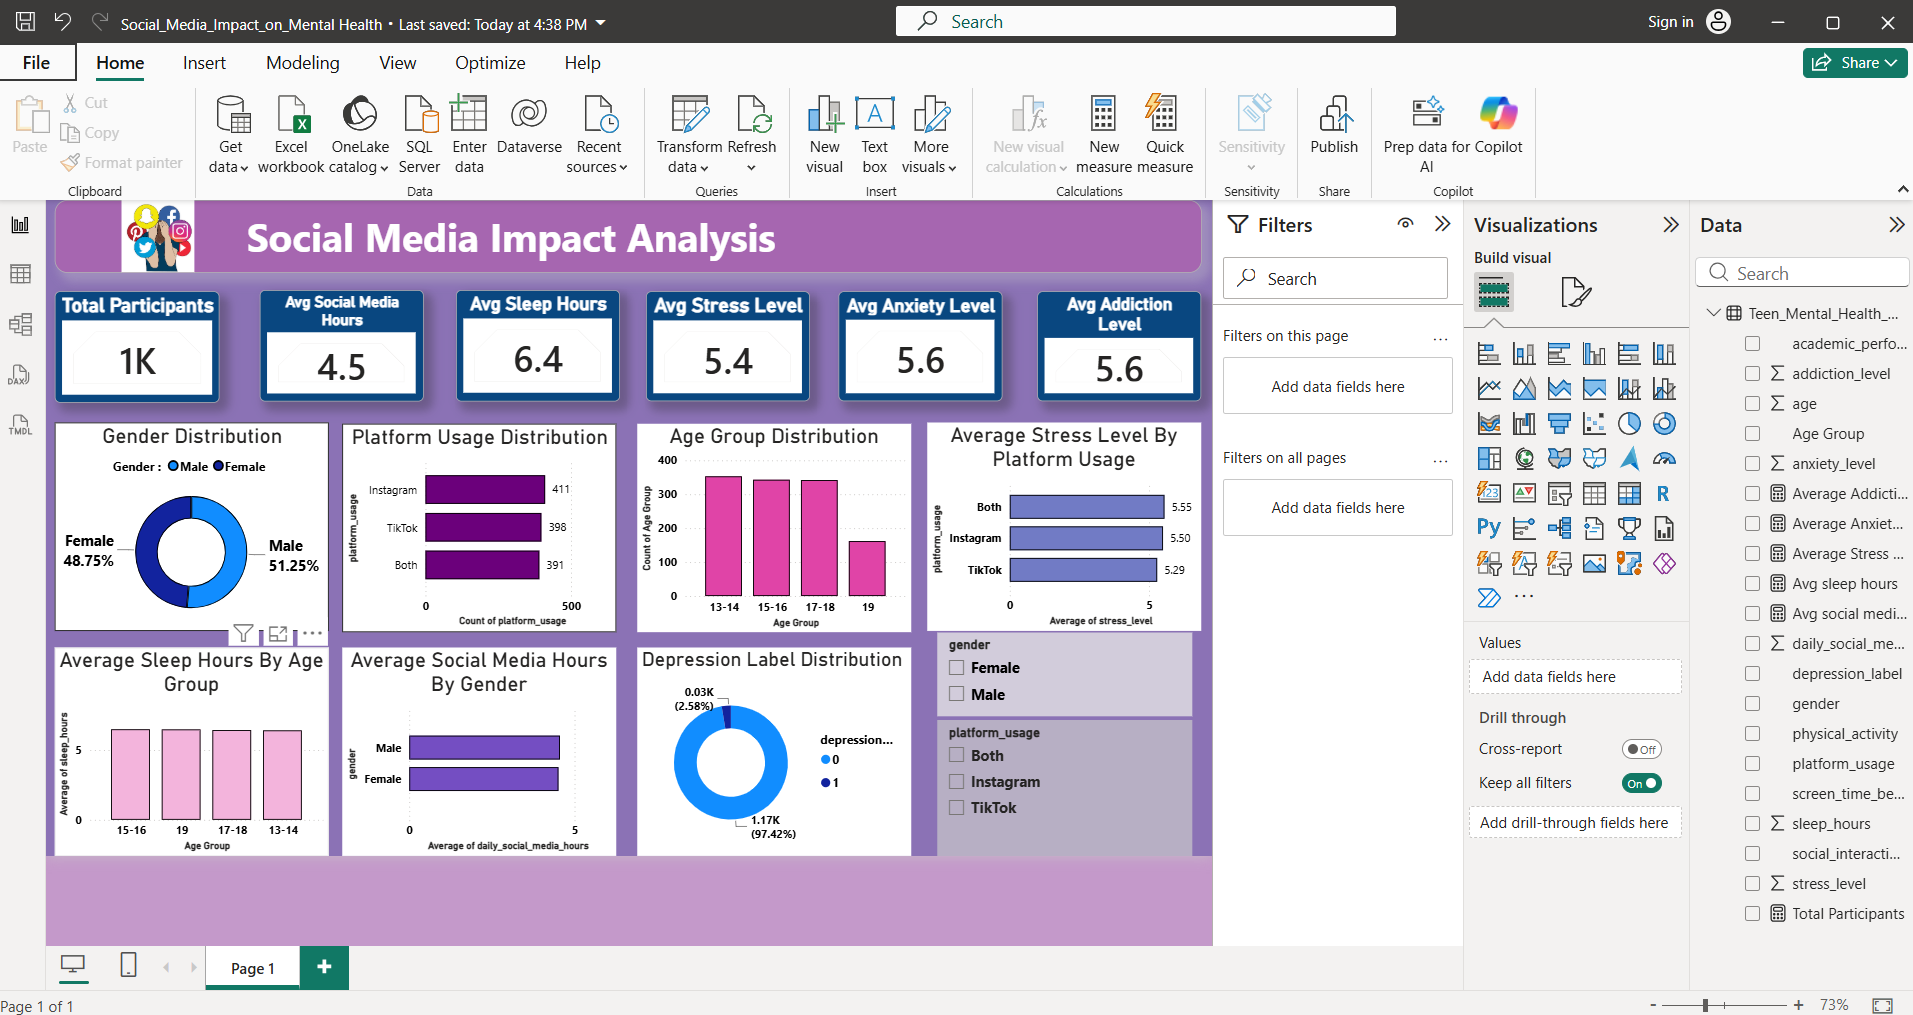

What the dashboard file says about the page in this screenshot:
{"tool":"powerbi","page":{"name":"Page 1","canvas":[1280,720],"ordinal":0},"visuals":[{"type":"textbox","box":[10,0,1259,80],"z":0},{"type":"image","box":[64.5,0,116.6,79.6],"z":1000},{"type":"cardVisual","title":"Total Participants","fields":{"Data":["Teen_Mental_Health_Dataset.Total Participants"]},"box":[9.6,100.2,181.1,122.1],"z":2000},{"type":"cardVisual","title":"Avg Social Media Hours","fields":{"Data":["Teen_Mental_Health_Dataset.Avg social media hours"]},"box":[234.6,98.8,179.8,122.1],"z":3000},{"type":"cardVisual","title":"Avg Sleep Hours","fields":{"Data":["Teen_Mental_Health_Dataset.Avg sleep hours"]},"box":[450.1,98.8,179.8,122.1],"z":4000},{"type":"cardVisual","title":"Avg Stress Level","fields":{"Data":["Teen_Mental_Health_Dataset.Average Stress Level"]},"box":[658.7,100.2,179.8,120.8],"z":5000},{"type":"cardVisual","title":"Avg Anxiety Level","fields":{"Data":["Teen_Mental_Health_Dataset.AVERAGE Anxiety Level"]},"box":[870,100.2,179.8,120.8],"z":6000},{"type":"cardVisual","title":"Avg Addiction Level","fields":{"Data":["Teen_Mental_Health_Dataset.Average Addiction Level"]},"box":[1088.2,100.2,179.8,120.8],"z":7000},{"type":"donutChart","title":"Gender Distribution","fields":{"Category":["Teen_Mental_Health_Dataset.gender"],"Y":["CountNonNull(Teen_Mental_Health_Dataset.gender)"]},"box":[9.6,244.3,300.5,229.2],"z":8000},{"type":"clusteredBarChart","title":"Platform Usage Distribution","fields":{"Category":["Teen_Mental_Health_Dataset.platform_usage"],"Y":["CountNonNull(Teen_Mental_Health_Dataset.platform_usage)"]},"box":[325.2,245.6,300.5,229.2],"z":9000},{"type":"clusteredColumnChart","title":"Age Group Distribution","fields":{"Category":["Teen_Mental_Health_Dataset.Age Group"],"Y":["CountNonNull(Teen_Mental_Health_Dataset.Age Group)"]},"box":[649.1,245.6,300.5,229.2],"z":10000},{"type":"clusteredBarChart","title":"Average Stress Level By Platform Usage","fields":{"Category":["Teen_Mental_Health_Dataset.platform_usage"],"Y":["Avg(Teen_Mental_Health_Dataset.stress_level)"]},"box":[967.4,244.3,300.5,229.2],"z":11000},{"type":"clusteredColumnChart","title":"Average Sleep Hours By Age Group","fields":{"Category":["Teen_Mental_Health_Dataset.Age Group"],"Y":["Avg(Teen_Mental_Health_Dataset.sleep_hours)"]},"box":[9.6,491.3,300.5,229.2],"z":12000},{"type":"clusteredBarChart","title":"Average Social Media Hours By Gender","fields":{"Category":["Teen_Mental_Health_Dataset.gender"],"Y":["Avg(Teen_Mental_Health_Dataset.daily_social_media_hours)"]},"box":[325.2,491.3,300.5,229.2],"z":13000},{"type":"slicer","fields":{"Values":["Teen_Mental_Health_Dataset.gender"]},"box":[978.4,474.8,279.9,91.9],"z":14000},{"type":"slicer","fields":{"Values":["Teen_Mental_Health_Dataset.platform_usage"]},"box":[978.4,570.8,279.9,149.6],"z":15000},{"type":"donutChart","title":"Depression Label Distribution","fields":{"Category":["Teen_Mental_Health_Dataset.depression_label"],"Y":["CountNonNull(Teen_Mental_Health_Dataset.depression_label)"]},"box":[649,491,301,229],"z":16000}]}

Visuals, with their boxes on the page's 1280x720 design canvas (x1, y1, x2, y2). These are canvas units, not pixel positions in the 1913x1015 screenshot, which may show the page scaled, cropped or inside an application window:
textbox: 10/0/1269/80
image: 64/0/181/80
"Total Participants" cardVisual: 10/100/191/222
"Avg Social Media Hours" cardVisual: 235/99/414/221
"Avg Sleep Hours" cardVisual: 450/99/630/221
"Avg Stress Level" cardVisual: 659/100/838/221
"Avg Anxiety Level" cardVisual: 870/100/1050/221
"Avg Addiction Level" cardVisual: 1088/100/1268/221
"Gender Distribution" donutChart: 10/244/310/474
"Platform Usage Distribution" clusteredBarChart: 325/246/626/475
"Age Group Distribution" clusteredColumnChart: 649/246/950/475
"Average Stress Level By Platform Usage" clusteredBarChart: 967/244/1268/474
"Average Sleep Hours By Age Group" clusteredColumnChart: 10/491/310/720
"Average Social Media Hours By Gender" clusteredBarChart: 325/491/626/720
slicer - Teen_Mental_Health_Dataset.gender: 978/475/1258/567
slicer - Teen_Mental_Health_Dataset.platform_usage: 978/571/1258/720
"Depression Label Distribution" donutChart: 649/491/950/720
